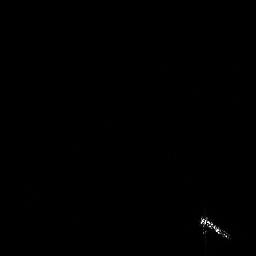ship: (195, 211, 235, 245)
